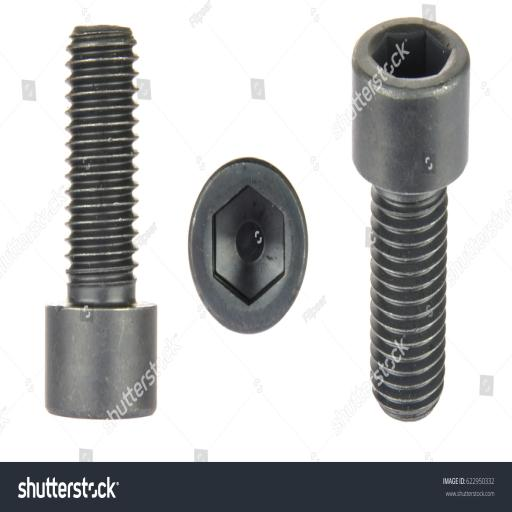Hex-Allen: (184, 152, 310, 338)
